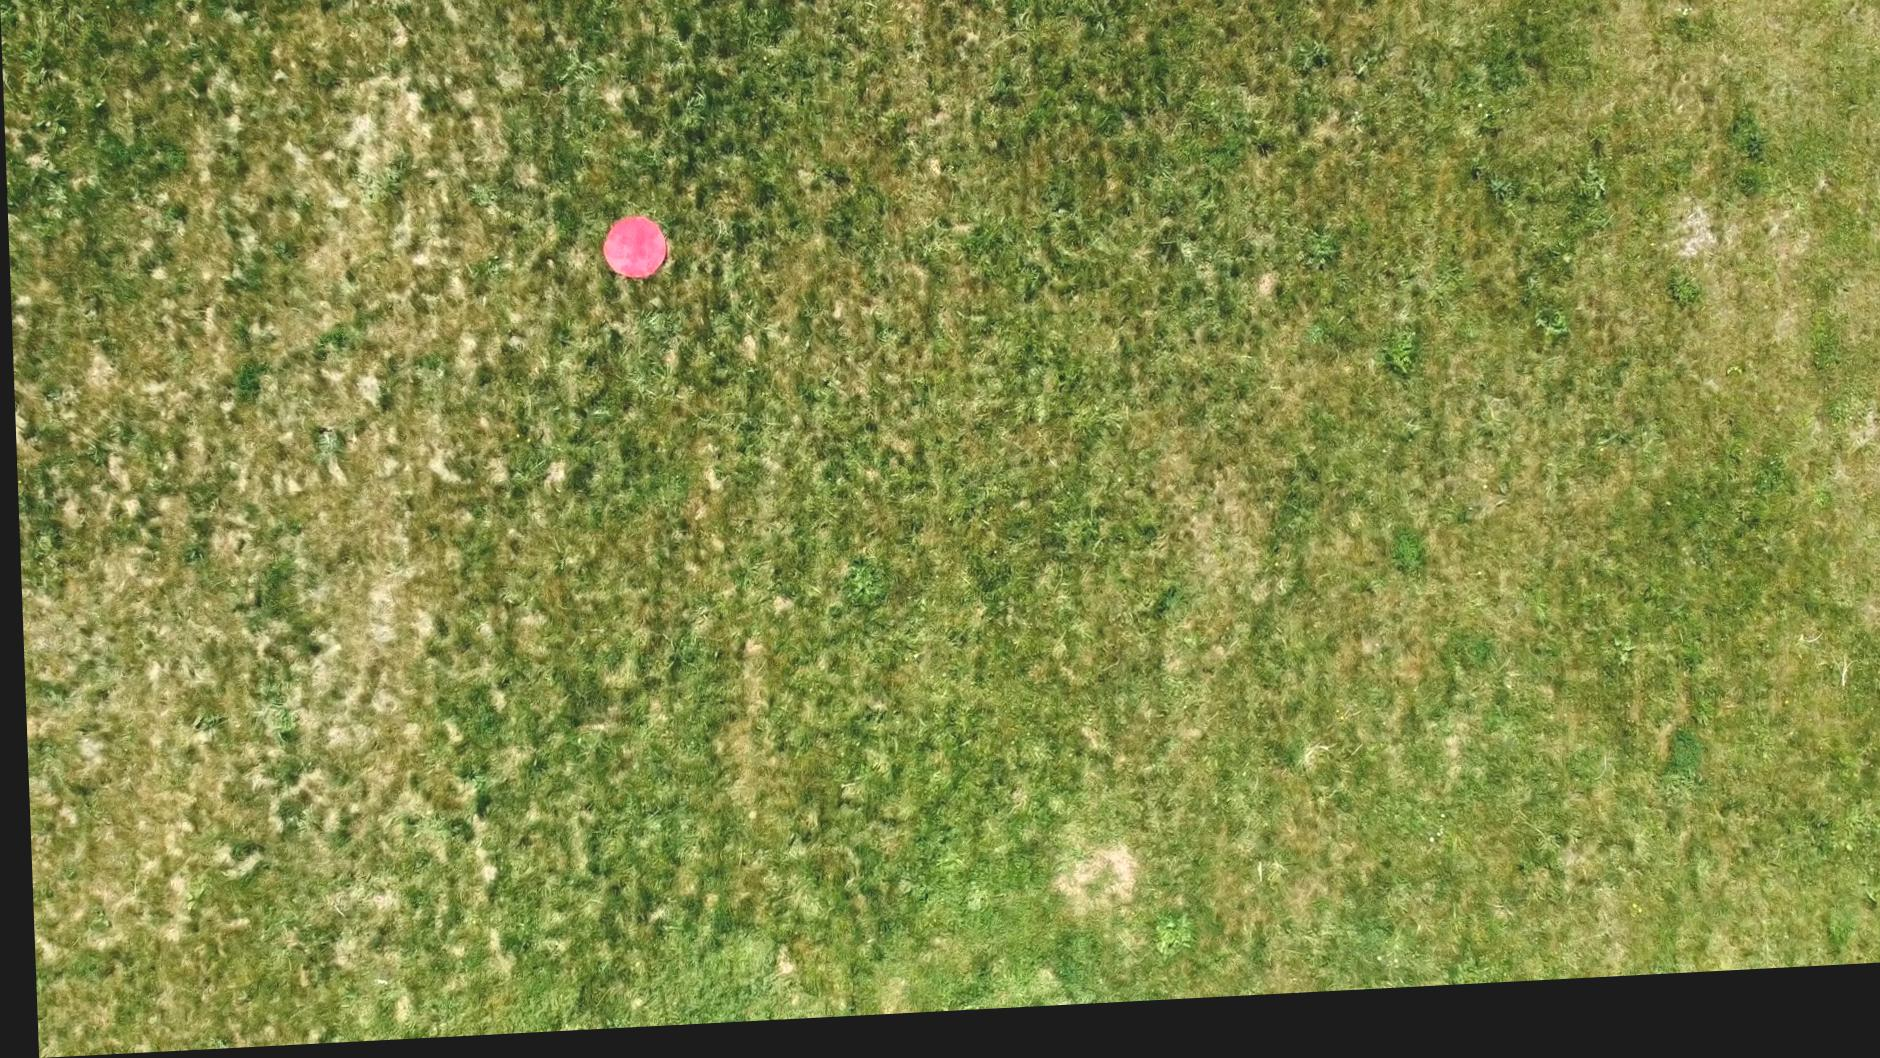Red: (599, 220, 669, 288)
